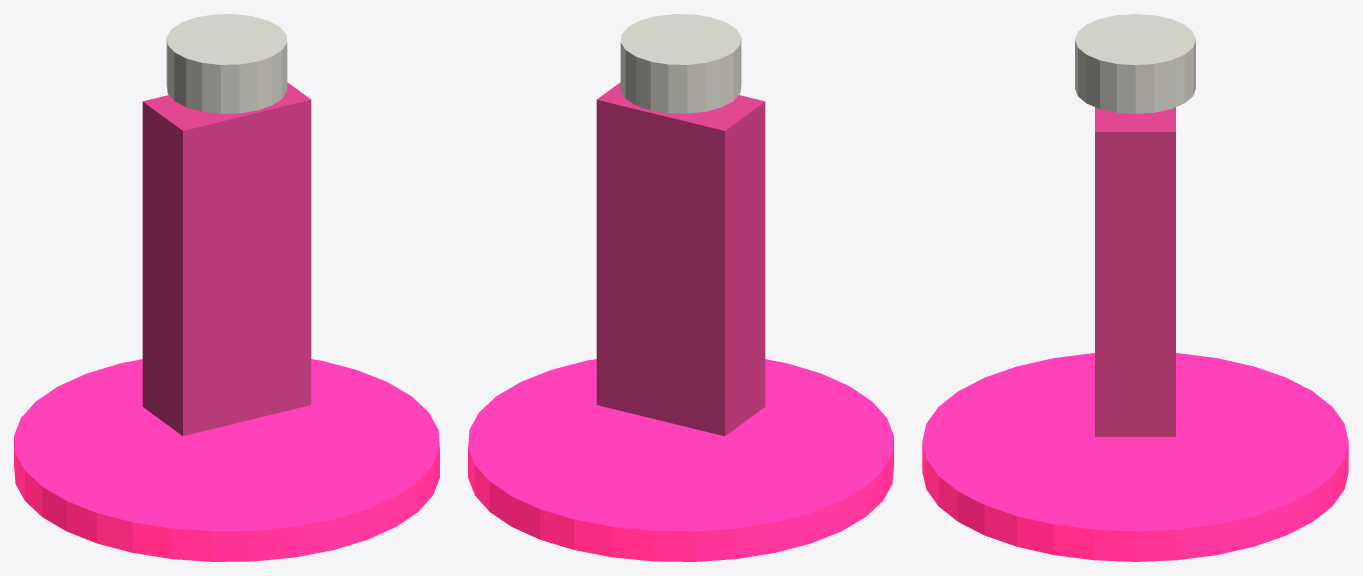
File: beauty_beauty_tube.dae
The picture shows the model from 3 angles, left to right: view 1: azimuth 30°, elevation 25°; view 2: azimuth 150°, elevation 25°; view 3: azimuth 270°, elevation 25°; orthographic projection.
Visible parts, largest first — view 1: 03_10_Popular_Beauty_Beauty_Tube_ROOT_base, 03_10_Popular_Beauty_Beauty_Tube_part_01, 03_10_Popular_Beauty_Beauty_Tube_part_02; view 2: 03_10_Popular_Beauty_Beauty_Tube_ROOT_base, 03_10_Popular_Beauty_Beauty_Tube_part_01, 03_10_Popular_Beauty_Beauty_Tube_part_02; view 3: 03_10_Popular_Beauty_Beauty_Tube_ROOT_base, 03_10_Popular_Beauty_Beauty_Tube_part_01, 03_10_Popular_Beauty_Beauty_Tube_part_02.
Boxes of the visible parts, x1=… form: 03_10_Popular_Beauty_Beauty_Tube_ROOT_base: x1=14, y1=359, x2=439, y2=561; 03_10_Popular_Beauty_Beauty_Tube_part_01: x1=142, y1=82, x2=311, y2=436; 03_10_Popular_Beauty_Beauty_Tube_part_02: x1=166, y1=14, x2=287, y2=113; 03_10_Popular_Beauty_Beauty_Tube_ROOT_base: x1=468, y1=359, x2=893, y2=561; 03_10_Popular_Beauty_Beauty_Tube_part_01: x1=596, y1=82, x2=765, y2=436; 03_10_Popular_Beauty_Beauty_Tube_part_02: x1=620, y1=14, x2=741, y2=113; 03_10_Popular_Beauty_Beauty_Tube_ROOT_base: x1=922, y1=353, x2=1348, y2=561; 03_10_Popular_Beauty_Beauty_Tube_part_01: x1=1095, y1=107, x2=1175, y2=436; 03_10_Popular_Beauty_Beauty_Tube_part_02: x1=1075, y1=14, x2=1195, y2=113.
Size of the model in its own units: 0.76 by 0.85 by 0.76.
